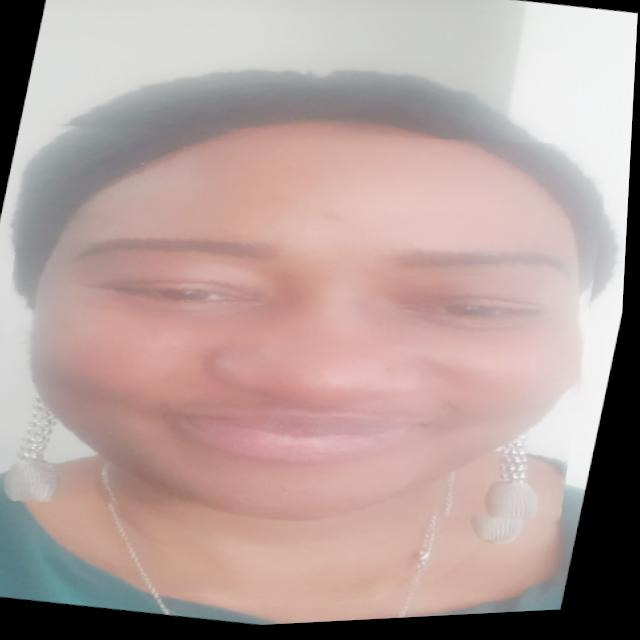happy: (0, 71, 635, 580)
